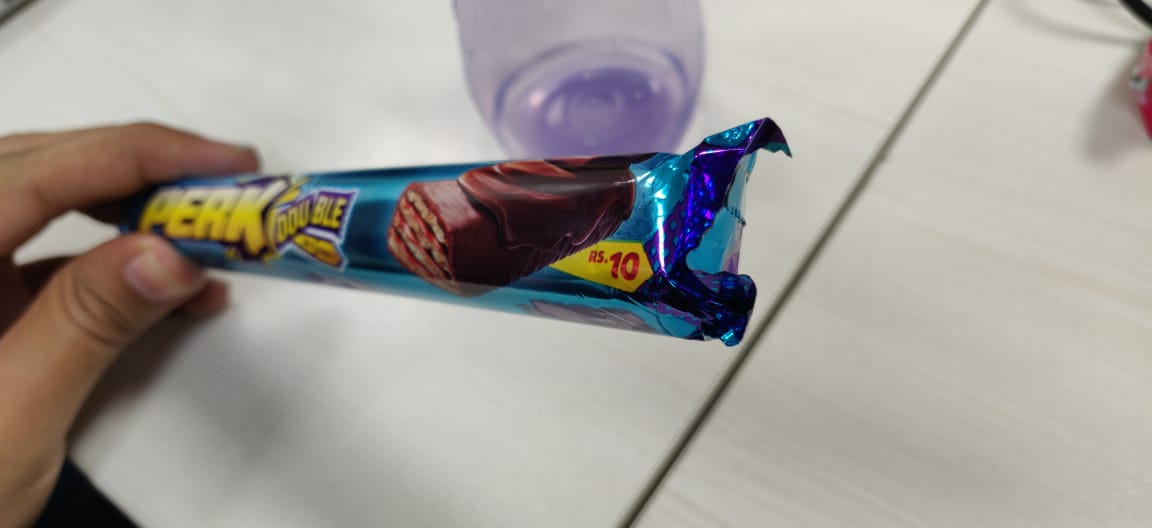perk: (111, 109, 805, 362)
